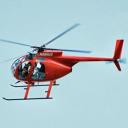helicopter: (2, 25, 126, 102)
